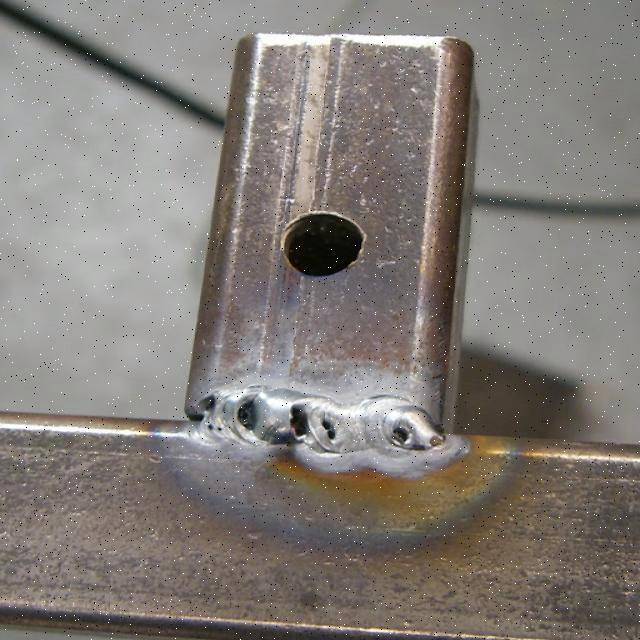Porosity: (282, 403, 311, 443), (231, 398, 263, 433), (318, 415, 341, 444), (389, 426, 411, 447), (199, 396, 220, 416), (203, 423, 225, 435)
